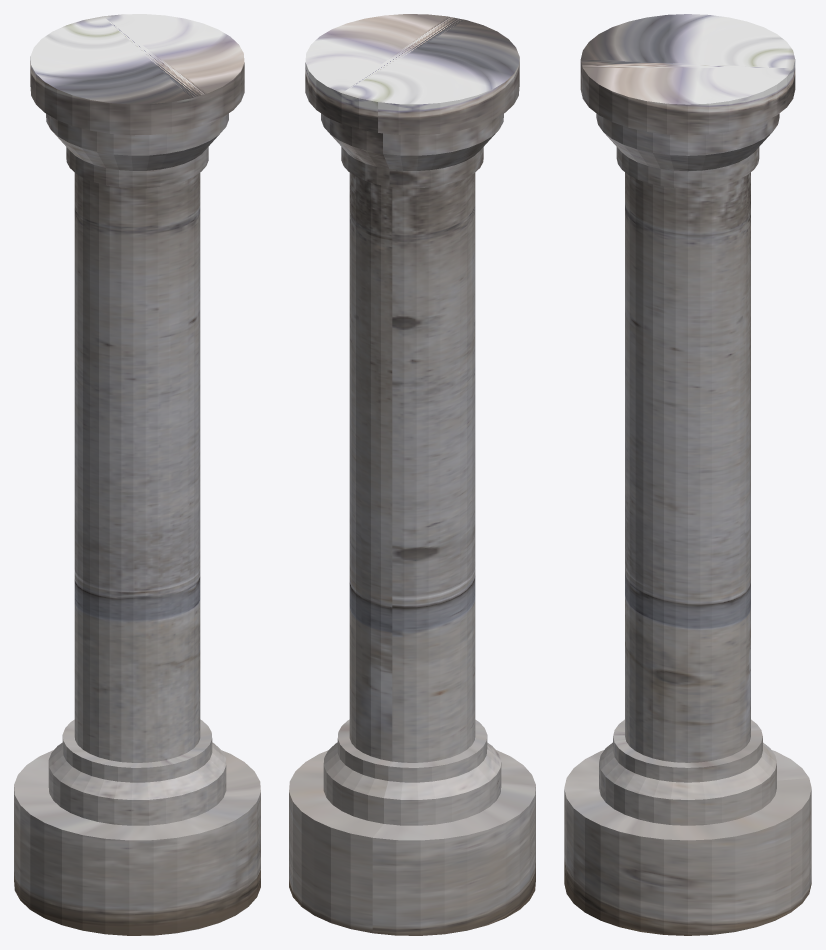
The model's file is pillar.fbx.
The picture shows the model from 3 angles, left to right: view 1: azimuth 30°, elevation 25°; view 2: azimuth 150°, elevation 25°; view 3: azimuth 270°, elevation 25°; orthographic projection.
Visible parts, largest first — view 1: Cylinder; view 2: Cylinder; view 3: Cylinder.
Boxes of the visible parts, left/top/right/bottom form: Cylinder: left=14, top=14, right=260, bottom=935; Cylinder: left=289, top=14, right=535, bottom=935; Cylinder: left=564, top=14, right=811, bottom=935.
Size of the model in its own units: 393 by 1443 by 393.
